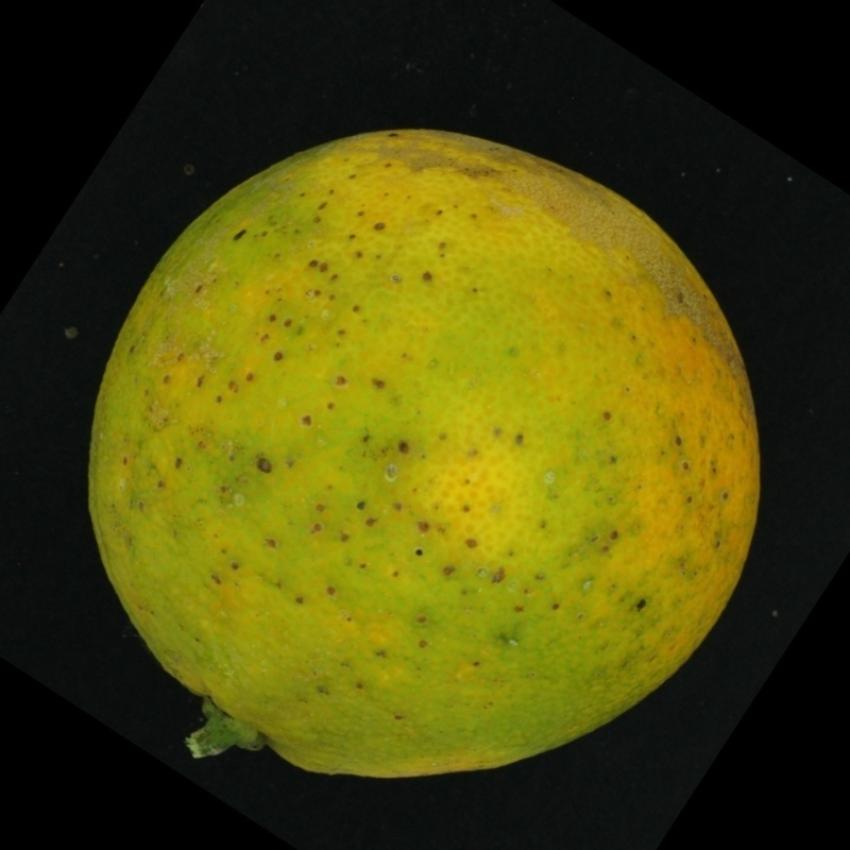Mal estado: (55, 104, 792, 784)
